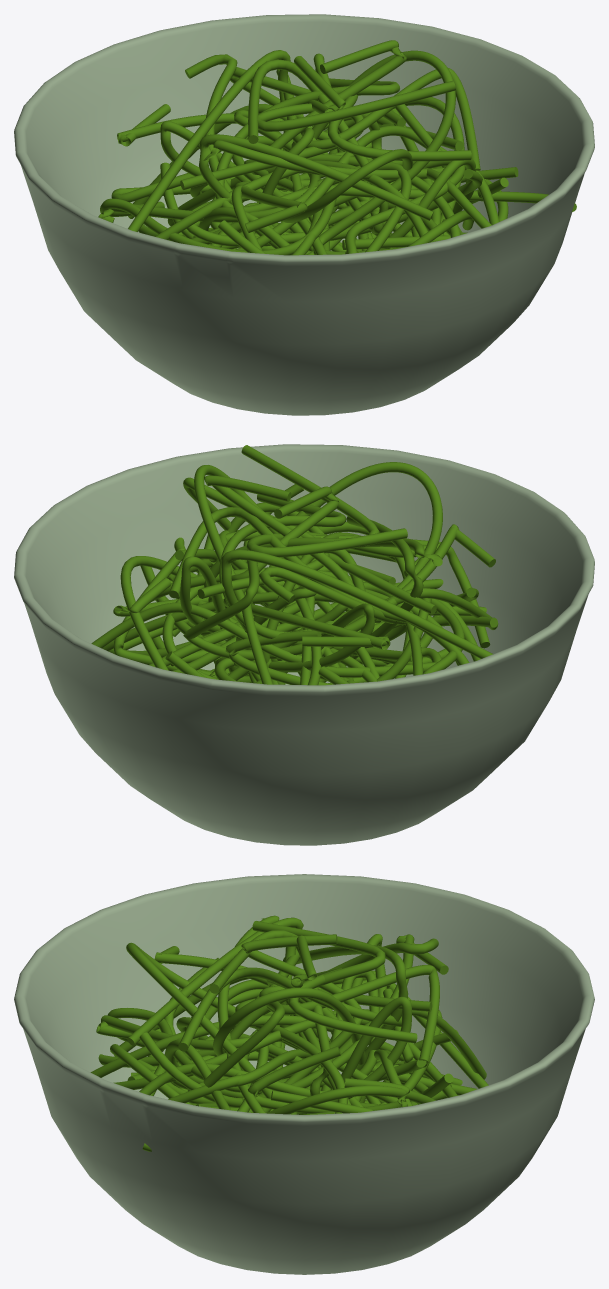
Rendered from wakame.fbx.
3 renders of one model, top to bottom at view 1: azimuth 30°, elevation 25°; view 2: azimuth 150°, elevation 25°; view 3: azimuth 270°, elevation 25°, orthographic.
Parts seen in each view (by area): view 1: Sphere.001, NurbsPath.001; view 2: Sphere.001, NurbsPath.001; view 3: Sphere.001, NurbsPath.001.
Boxes of the visible parts, x1,y1,x2,y2 form: Sphere.001: (14, 14, 594, 415); NurbsPath.001: (98, 40, 576, 255); Sphere.001: (14, 444, 594, 845); NurbsPath.001: (91, 445, 498, 685); Sphere.001: (14, 874, 594, 1274); NurbsPath.001: (90, 915, 488, 1151).
Bounding box in the file's own units: 205 × 118 × 205.
